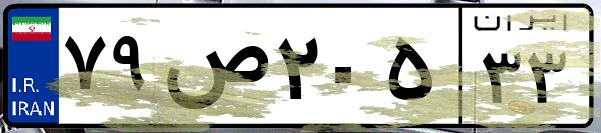0: (330, 28, 385, 110)
2: (270, 28, 330, 110)
3: (475, 38, 525, 113), (525, 38, 570, 115)
5: (385, 28, 445, 110)
7: (57, 26, 110, 100)
9: (110, 28, 158, 98)
ص: (158, 20, 270, 120)
